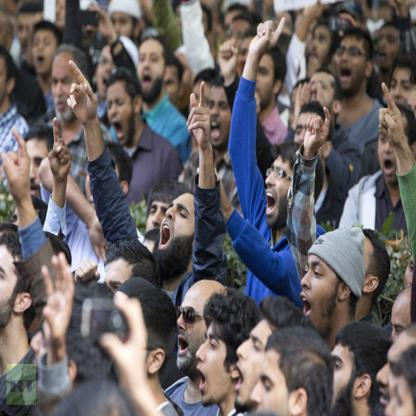face: (238, 321, 275, 404), (196, 324, 232, 405), (31, 321, 69, 396), (301, 255, 338, 330), (378, 339, 416, 410), (178, 293, 210, 369), (251, 358, 292, 416), (159, 194, 196, 258), (115, 315, 147, 384), (267, 161, 296, 228), (328, 348, 357, 412), (379, 123, 408, 184), (86, 160, 119, 211), (53, 61, 82, 118), (107, 91, 135, 146), (105, 274, 134, 327), (23, 148, 50, 203), (336, 43, 364, 92), (138, 47, 165, 96), (209, 92, 233, 147), (4, 248, 20, 325), (147, 203, 173, 250), (296, 119, 323, 163), (98, 51, 123, 97), (251, 59, 273, 110), (190, 88, 215, 132), (390, 72, 414, 117), (386, 381, 416, 416), (33, 34, 58, 75), (392, 303, 416, 344), (110, 10, 133, 51), (308, 31, 332, 70), (310, 78, 334, 114), (378, 30, 400, 68), (238, 43, 259, 82), (160, 72, 179, 111), (231, 25, 252, 59), (226, 16, 244, 47), (19, 18, 34, 49), (192, 13, 206, 44), (54, 1, 69, 28), (84, 12, 98, 40), (405, 260, 416, 293), (279, 17, 293, 41), (338, 15, 352, 38), (134, 22, 145, 44), (262, 1, 273, 21), (408, 99, 416, 120)
